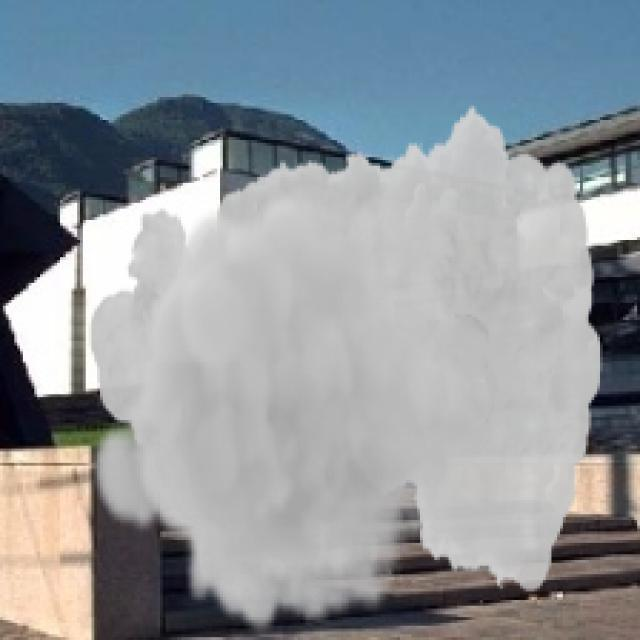Smoke: (88, 102, 603, 634)
